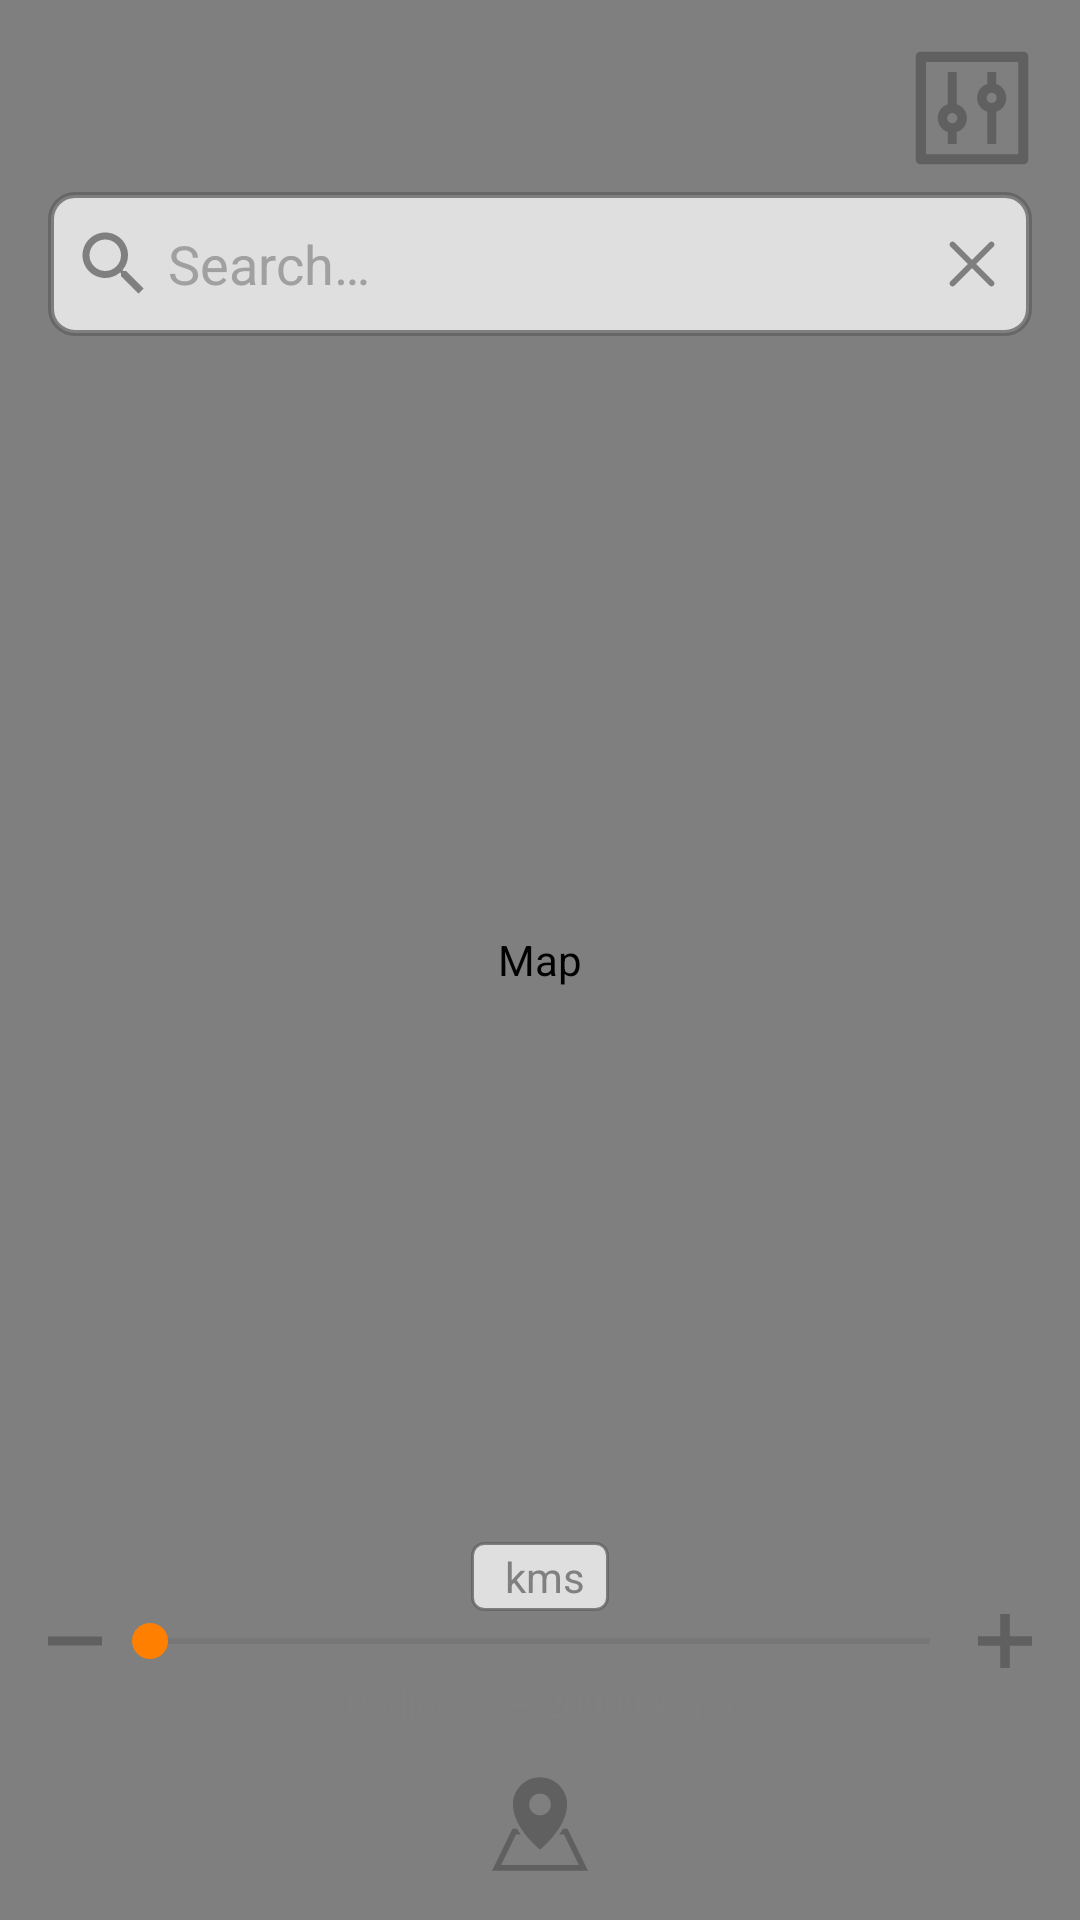

Icons on this 1080px×1920px Android screen, each with the point to tap as [x,y]:
control: [972,108]
increment: [1005,1641]
recenter: [540,1824]
